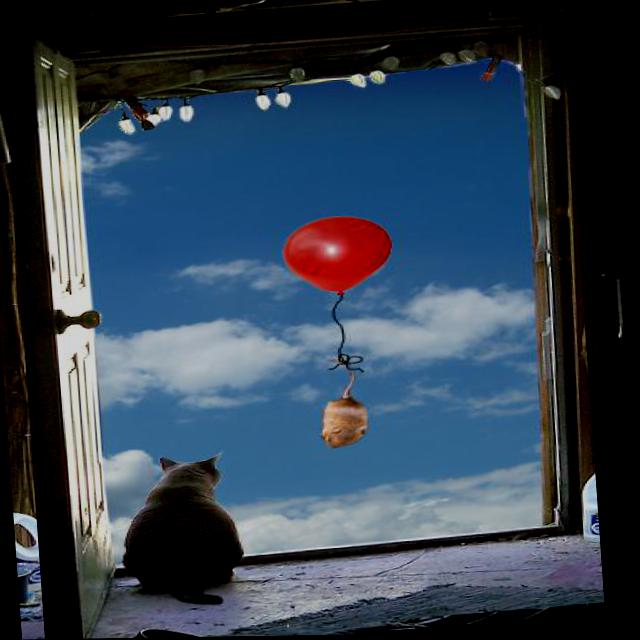semi-open: (2, 0, 606, 639)
